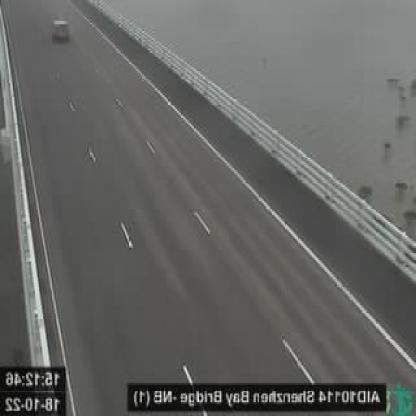Car: (51, 16, 70, 42)
